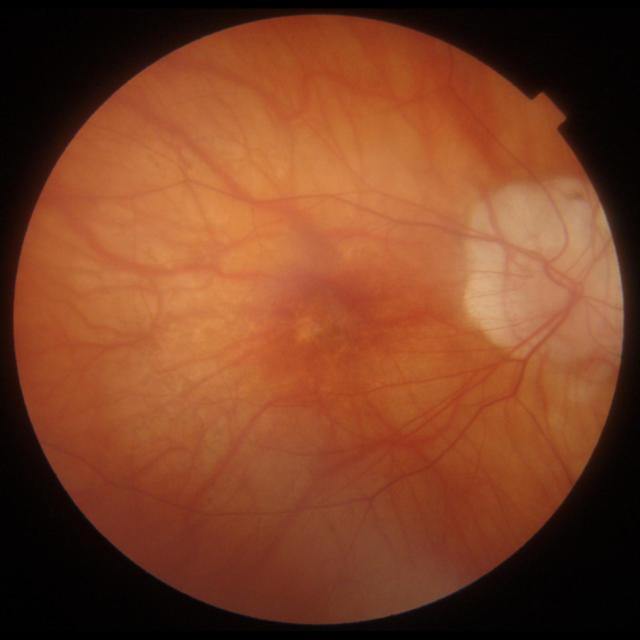OD: (512, 237, 618, 344)
